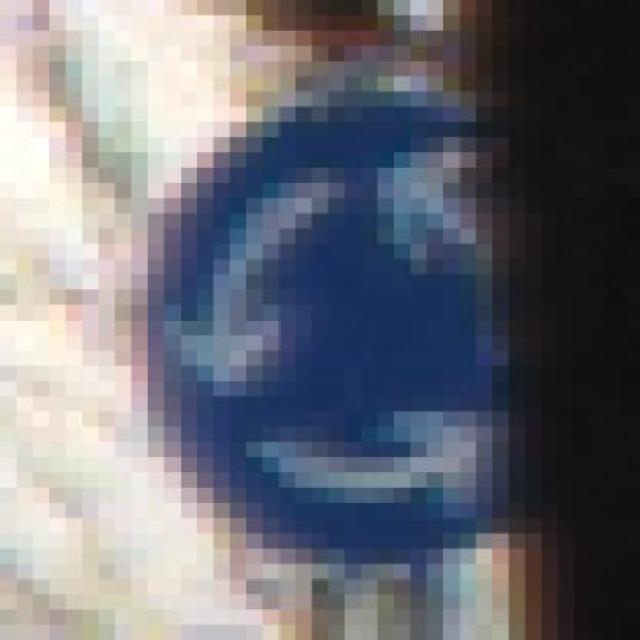Round-About: (98, 76, 574, 564)
